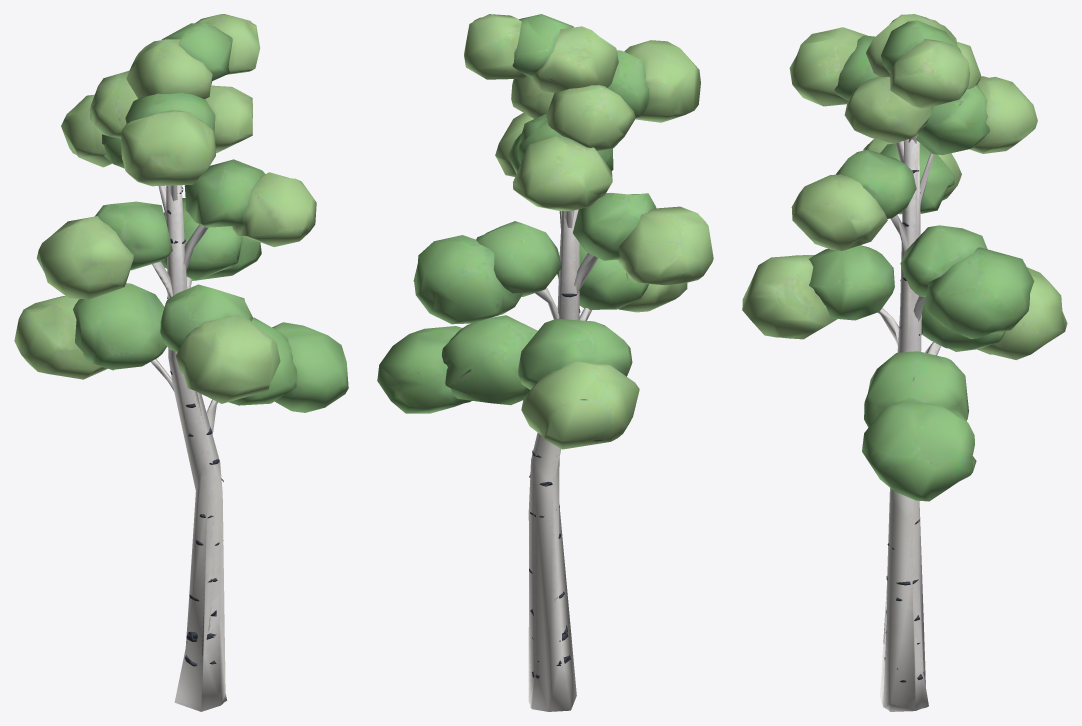
File: birch-tree.glb
3 views of the same model, side by side, from view 1: azimuth 30°, elevation 25°; view 2: azimuth 150°, elevation 25°; view 3: azimuth 270°, elevation 25° (orthographic). The views are drawn at different scales.
Visible parts, largest first — view 1: birch-tree_body, birch-tree_bark_marks; view 2: birch-tree_body; view 3: birch-tree_body.
Part boxes in pixels (left/top/right/bottom): birch-tree_body: left=14, top=14, right=348, bottom=711; birch-tree_bark_marks: left=166, top=186, right=223, bottom=666; birch-tree_body: left=377, top=14, right=713, bottom=711; birch-tree_body: left=742, top=14, right=1067, bottom=711.
Bounding box in the file's own units: 3.14 × 6.64 × 2.88.
Materials: 2 (1 with a texture image).
